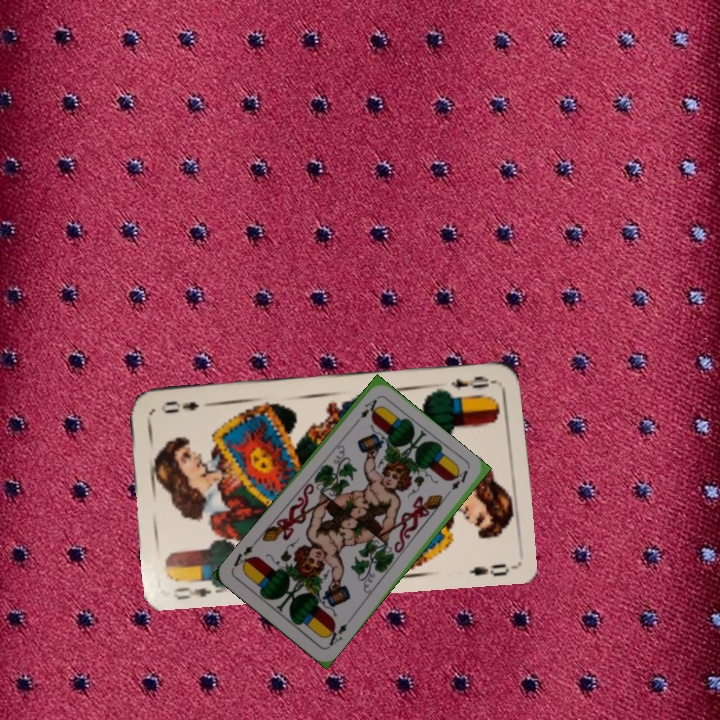EA: (322, 615, 353, 650), (356, 395, 380, 421)
EO: (169, 574, 224, 602), (447, 372, 499, 391)
